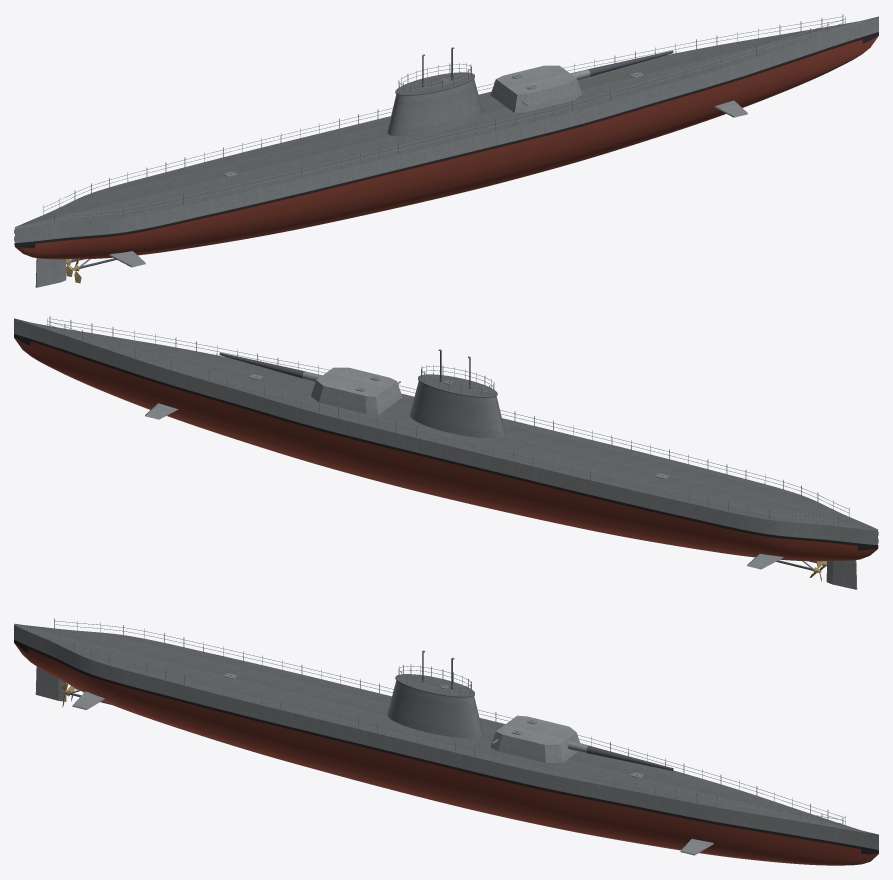
The model's file is m_class_ss_rn.glb.
3 renders of one model, top to bottom at view 1: azimuth 30°, elevation 25°; view 2: azimuth 150°, elevation 25°; view 3: azimuth 330°, elevation 25°, orthographic.
Parts seen in each view (by area): view 1: M class (submarine monitor); view 2: M class (submarine monitor); view 3: M class (submarine monitor).
Part boxes in pixels (<box>): M class (submarine monitor): <box>14,14,878,287</box>; M class (submarine monitor): <box>14,316,878,589</box>; M class (submarine monitor): <box>14,618,878,865</box>.
Size of the model in its own units: 90.14 by 14.2 by 10.77.
6 materials, 2 textured.
